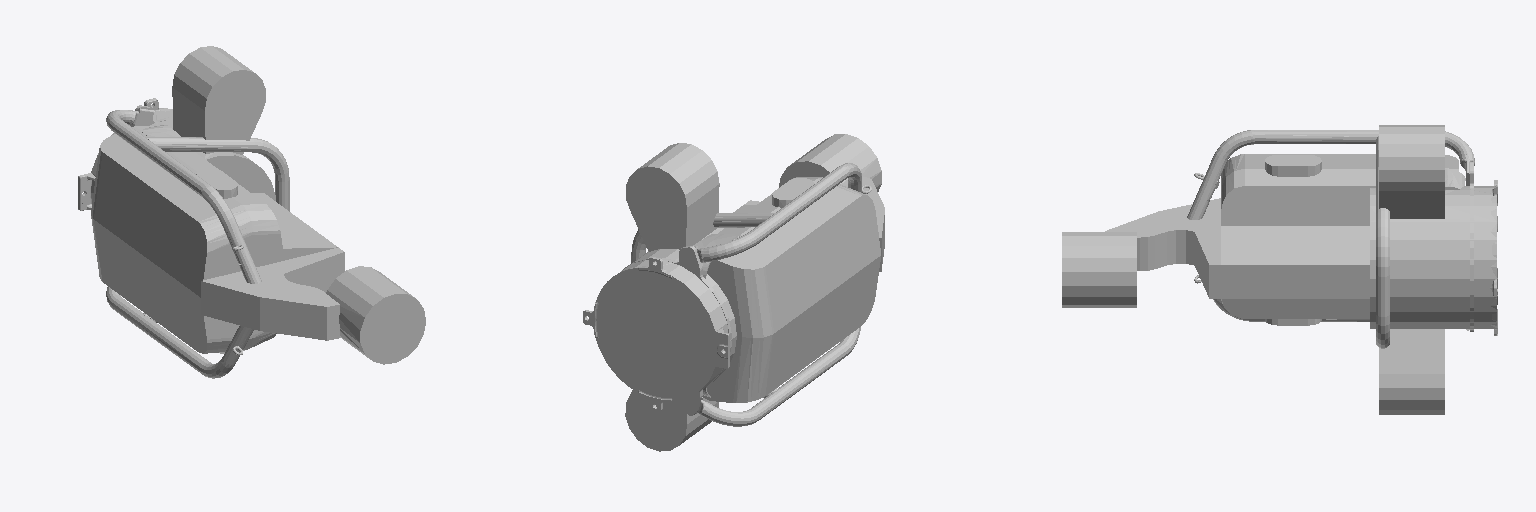
3 views of the same model, side by side, from view 1: azimuth 30°, elevation 25°; view 2: azimuth 150°, elevation 25°; view 3: azimuth 270°, elevation 25° (orthographic).
Parts seen in each view (by area): view 1: Base_Link_Collision; view 2: Base_Link_Collision; view 3: Base_Link_Collision.
Boxes of the visible parts, <box> form: Base_Link_Collision: <box>78,46,425,378</box>; Base_Link_Collision: <box>583,134,884,451</box>; Base_Link_Collision: <box>1062,125,1497,414</box>.
Bounding box in the file's own units: 0.4173 × 0.6707 × 0.9368.